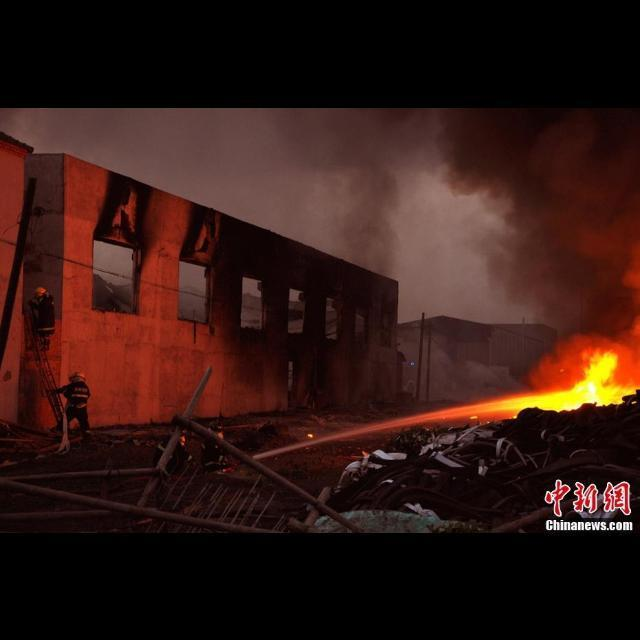Fire: (484, 348, 640, 418)
Smoke: (282, 108, 640, 348)
